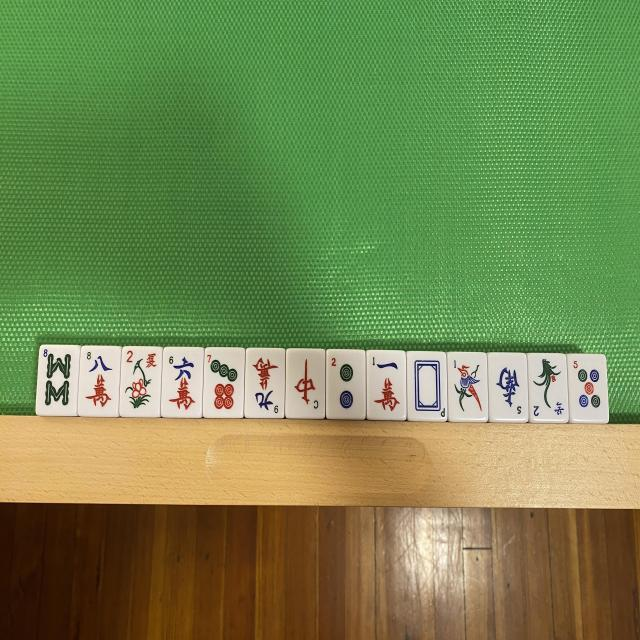bf2: (530, 353, 570, 421)
bs2: (122, 348, 160, 417)
hdr: (286, 348, 324, 418)
hdw: (408, 354, 448, 422)
hws: (490, 354, 528, 422)
sb1: (448, 354, 487, 422)
sb8: (39, 346, 79, 416)
sc1: (368, 352, 406, 420)
sc6: (167, 349, 206, 418)
sc8: (80, 348, 120, 418)
sc9: (246, 350, 284, 418)
sd2: (328, 352, 366, 419)
sd5: (570, 356, 608, 422)
sd7: (204, 350, 243, 418)
